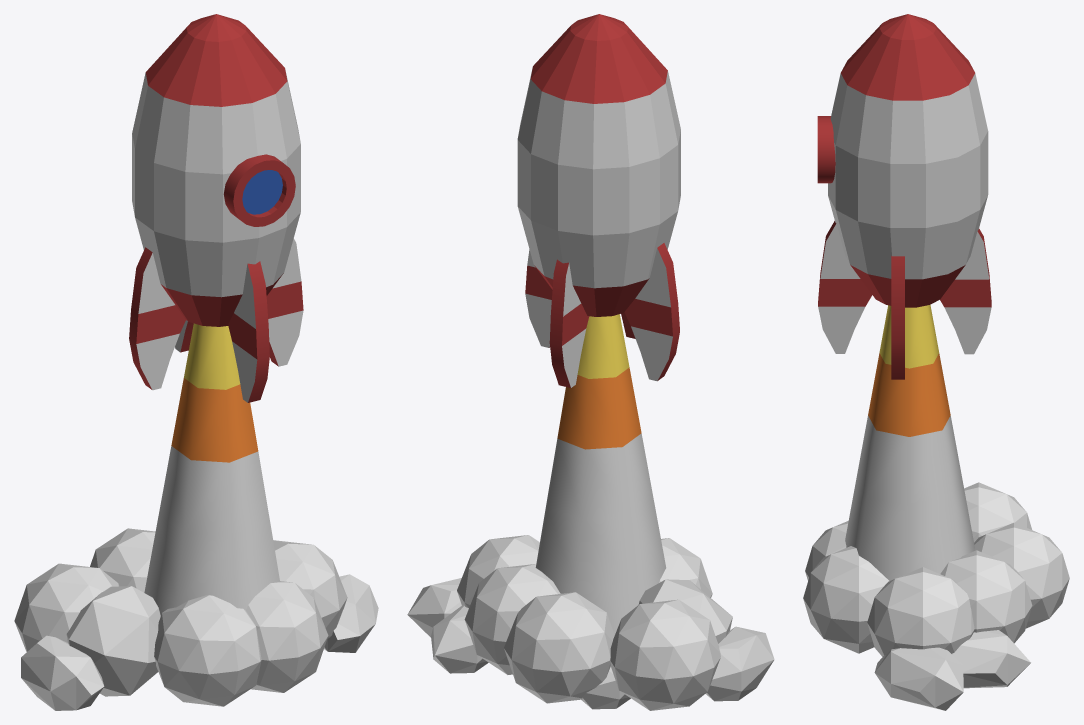
Rendered from bbe4c100-2229-4a79-aec5-7746fc072e21.glb.
The picture shows the model from 3 angles, left to right: view 1: azimuth 30°, elevation 25°; view 2: azimuth 150°, elevation 25°; view 3: azimuth 270°, elevation 25°; orthographic projection. The views are drawn at different scales.
Visible parts, largest first — view 1: Cone001; view 2: Cone001; view 3: Cone001.
Part boxes in pixels (<box>): Cone001: <box>14,14,378,710</box>; Cone001: <box>407,14,774,710</box>; Cone001: <box>803,14,1069,710</box>.
Size of the model in its own units: 38.34 by 71.44 by 27.56.
